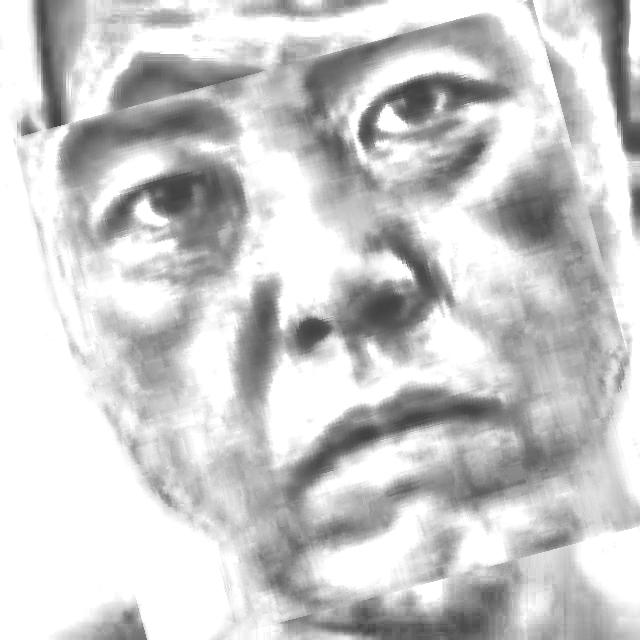angry: (42, 29, 640, 626)
